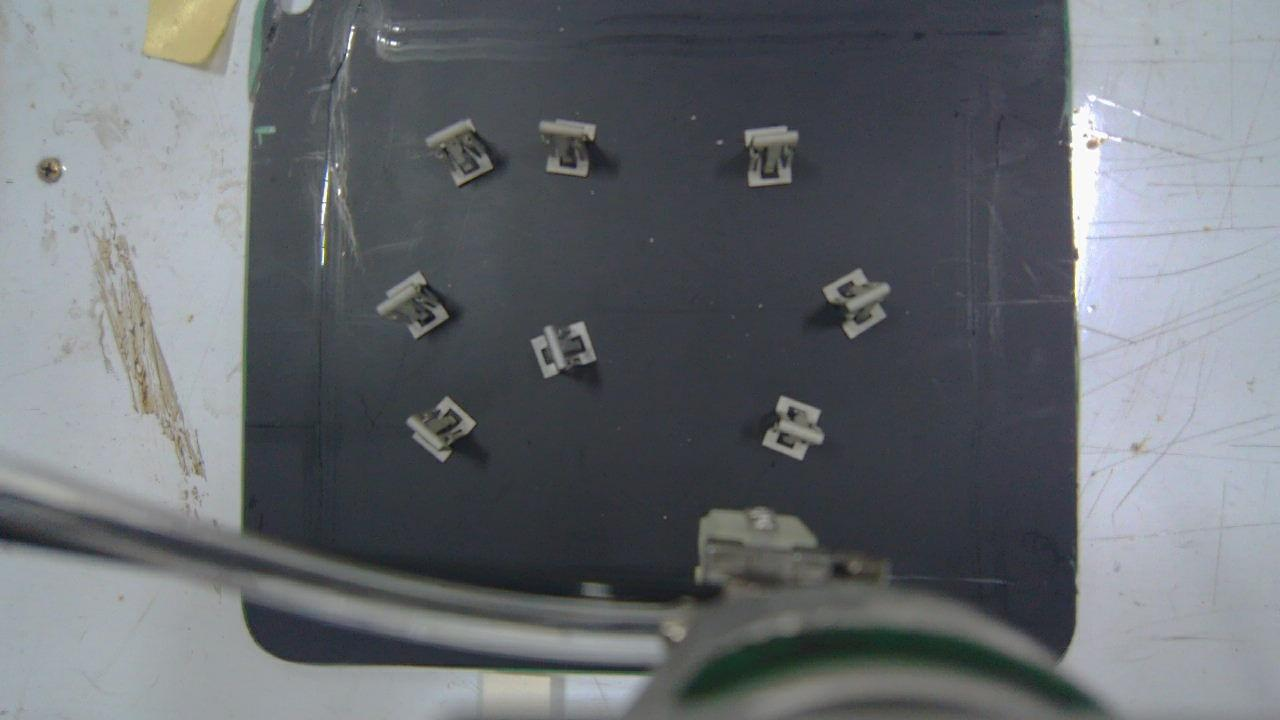ng: (377, 273, 450, 339), (428, 120, 493, 187), (407, 399, 474, 463), (539, 119, 598, 174), (746, 125, 798, 187)
pass: (824, 268, 889, 337), (529, 321, 596, 380), (762, 397, 824, 460)
